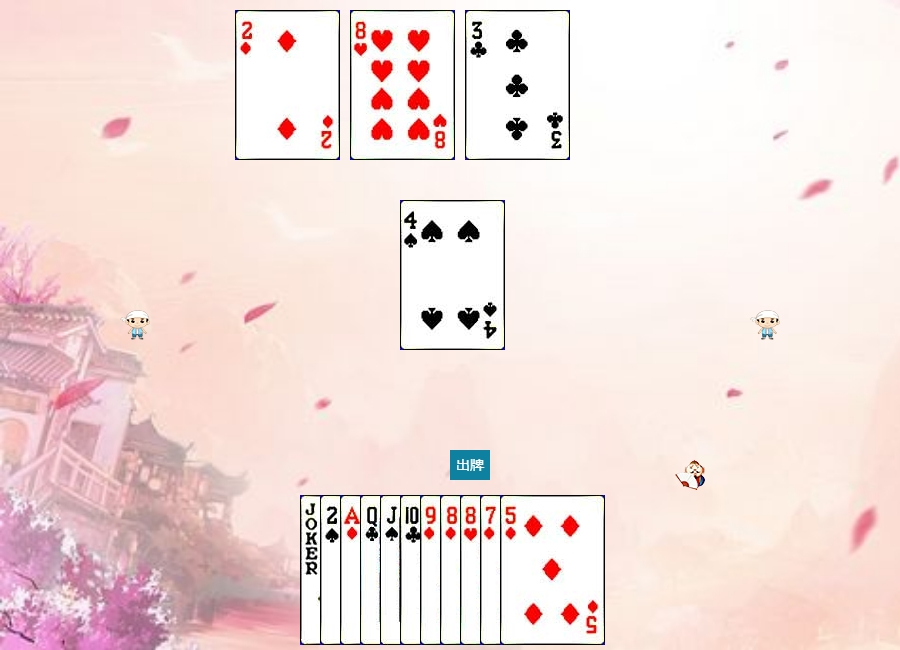10~2: (400, 495, 505, 645)
11~4: (380, 495, 485, 645)
12~2: (360, 495, 465, 645)
14~1: (340, 495, 445, 645)
15~1: (235, 10, 340, 160)
15~4: (320, 495, 425, 645)
17~3: (300, 495, 405, 645)
3~2: (465, 10, 570, 160)
4~4: (400, 200, 505, 350)
5~1: (500, 495, 605, 645)
7~1: (480, 495, 585, 645)
8~1: (440, 495, 545, 645)
8~3: (350, 10, 455, 160), (460, 495, 565, 645)
9~1: (420, 495, 525, 645)
